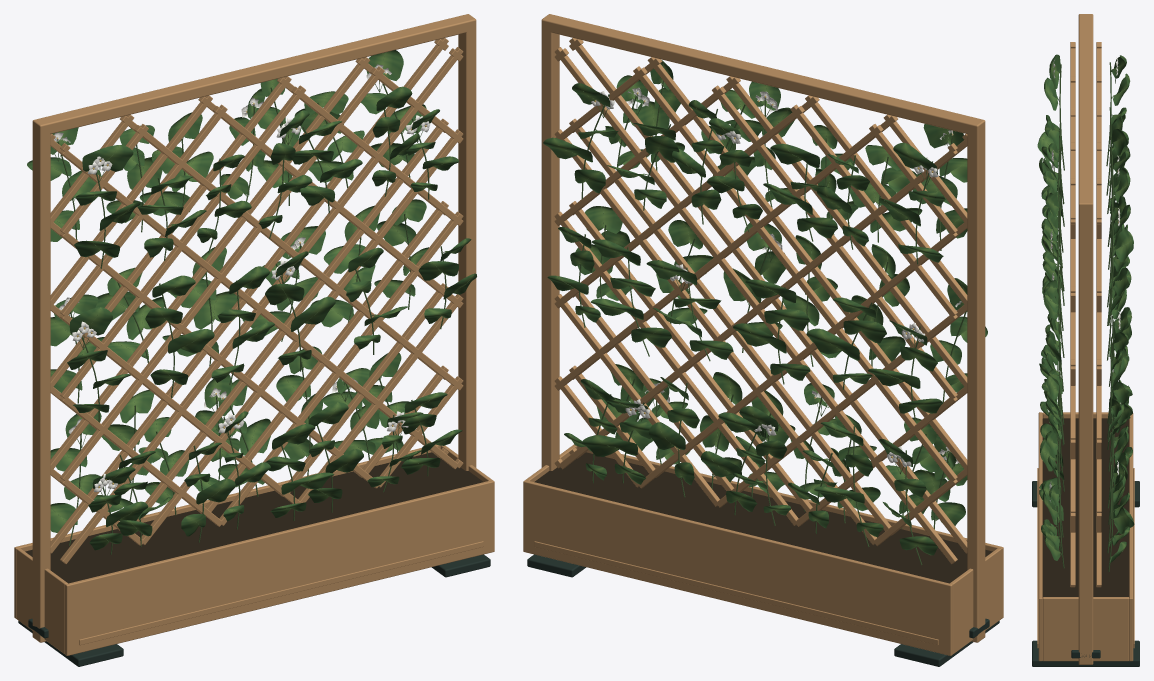
File: botanicalDivider-5.glb
The picture shows the model from 3 angles, left to right: view 1: azimuth 30°, elevation 25°; view 2: azimuth 150°, elevation 25°; view 3: azimuth 270°, elevation 25°; orthographic projection. The views are drawn at different scales.
Parts seen in each view (by area): view 1: Botanical_frame_finish, Botanical_living_foliage, Botanical_recessed_soil, Botanical_connected_stems, Botanical_warm_white_petals, Botanical_powdercoat, Botanical_leaf_midribs; view 2: Botanical_frame_finish, Botanical_living_foliage, Botanical_recessed_soil, Botanical_connected_stems, Botanical_warm_white_petals, Botanical_powdercoat, Botanical_leaf_midribs; view 3: Botanical_frame_finish, Botanical_living_foliage, Botanical_recessed_soil, Botanical_connected_stems, Botanical_powdercoat, Botanical_leaf_midribs, Botanical_warm_white_petals.
Boxes of the visible parts, bbox=[...] form: Botanical_frame_finish: bbox=[14, 14, 494, 655]; Botanical_living_foliage: bbox=[27, 50, 476, 550]; Botanical_recessed_soil: bbox=[25, 452, 483, 583]; Botanical_connected_stems: bbox=[54, 81, 446, 554]; Botanical_warm_white_petals: bbox=[54, 64, 430, 492]; Botanical_powdercoat: bbox=[18, 554, 490, 666]; Botanical_leaf_midribs: bbox=[51, 52, 473, 541]; Botanical_frame_finish: bbox=[523, 14, 1003, 655]; Botanical_living_foliage: bbox=[543, 60, 987, 555]; Botanical_recessed_soil: bbox=[534, 452, 992, 583]; Botanical_connected_stems: bbox=[578, 80, 967, 565]; Botanical_warm_white_petals: bbox=[591, 87, 961, 466]; Botanical_powdercoat: bbox=[527, 554, 999, 666]; Botanical_leaf_midribs: bbox=[558, 63, 966, 545]; Botanical_frame_finish: bbox=[1037, 14, 1134, 664]; Botanical_living_foliage: bbox=[1037, 54, 1134, 563]; Botanical_recessed_soil: bbox=[1042, 418, 1129, 597]; Botanical_connected_stems: bbox=[1052, 62, 1118, 571]; Botanical_powdercoat: bbox=[1032, 481, 1139, 666]; Botanical_leaf_midribs: bbox=[1040, 63, 1130, 551]; Botanical_warm_white_petals: bbox=[1049, 57, 1121, 501].
Size of the model in its own units: 2 by 2.3 by 0.48.
